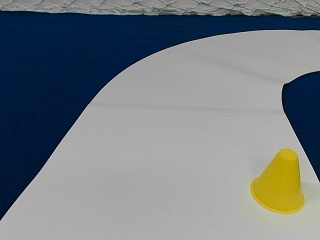cone: (251, 150, 305, 213)
